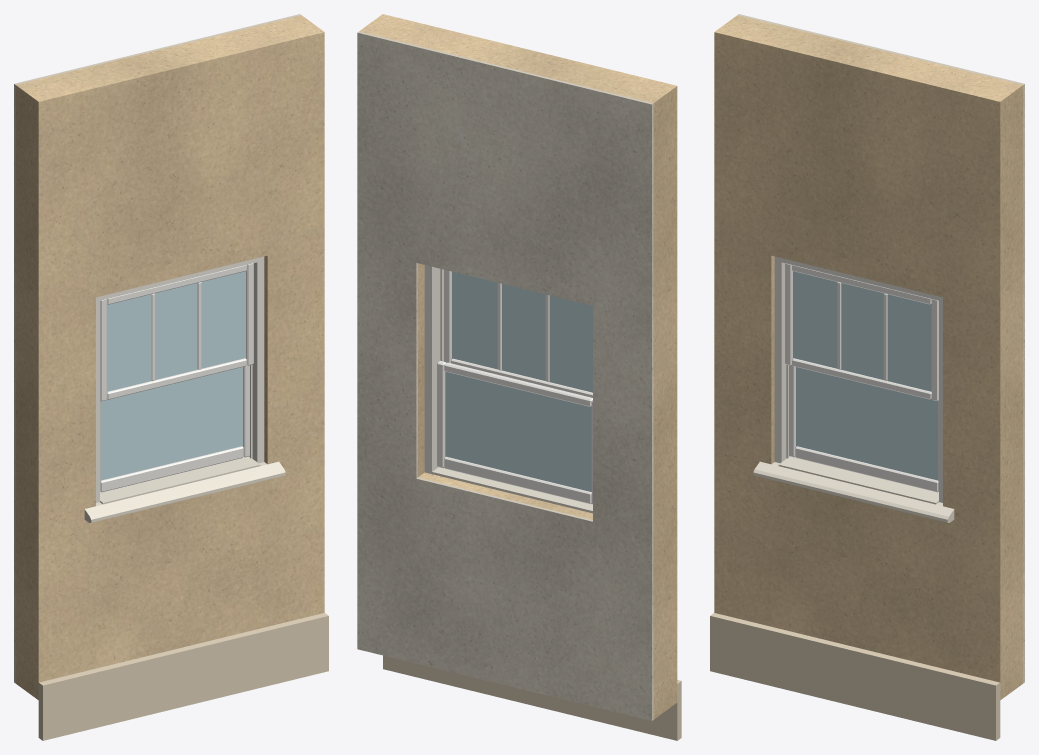
The model's file is wall_render_window.glb.
3 views of the same model, side by side, from view 1: azimuth 30°, elevation 25°; view 2: azimuth 150°, elevation 25°; view 3: azimuth 330°, elevation 25° (orthographic). The views are drawn at different scales.
Parts seen in each view (by area): view 1: wall_render_window_render, wall_render_window_glass, wall_render_window_band, wall_render_window_sash, wall_render_window_trim, wall_render_window_frame, wall_render_window_plaster; view 2: wall_render_window_plaster, wall_render_window_render, wall_render_window_glass, wall_render_window_sash, wall_render_window_band, wall_render_window_frame, wall_render_window_trim; view 3: wall_render_window_render, wall_render_window_glass, wall_render_window_band, wall_render_window_sash, wall_render_window_trim, wall_render_window_frame, wall_render_window_plaster.
Boxes of the visible parts, x1,y1,x2,y2 form: wall_render_window_render: (15, 15, 324, 699); wall_render_window_glass: (100, 271, 245, 480); wall_render_window_band: (38, 613, 328, 740); wall_render_window_sash: (100, 263, 253, 492); wall_render_window_trim: (84, 456, 285, 522); wall_render_window_frame: (96, 256, 264, 502); wall_render_window_plaster: (14, 14, 301, 683); wall_render_window_plaster: (357, 31, 653, 720); wall_render_window_render: (359, 14, 677, 719); wall_render_window_glass: (445, 271, 592, 491); wall_render_window_sash: (437, 269, 592, 504); wall_render_window_band: (383, 655, 681, 740); wall_render_window_frame: (424, 265, 443, 473); wall_render_window_trim: (432, 467, 592, 513); wall_render_window_render: (714, 15, 1023, 699); wall_render_window_glass: (793, 271, 938, 480); wall_render_window_band: (710, 613, 1000, 740); wall_render_window_sash: (785, 263, 938, 492); wall_render_window_trim: (753, 456, 954, 522); wall_render_window_frame: (774, 256, 942, 502); wall_render_window_plaster: (737, 14, 1024, 683).
Bounding box in the file's own units: 2 × 4.25 × 0.38.
Materials: 7 (2 with a texture image).
